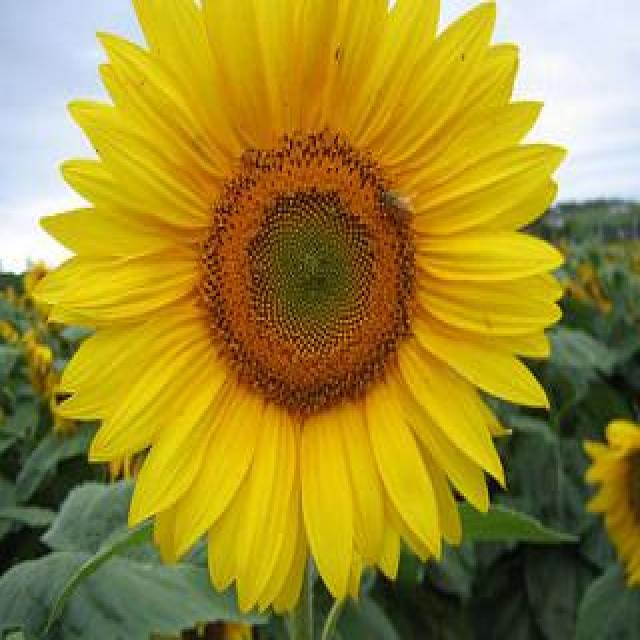sunflower: (43, 0, 555, 603)
